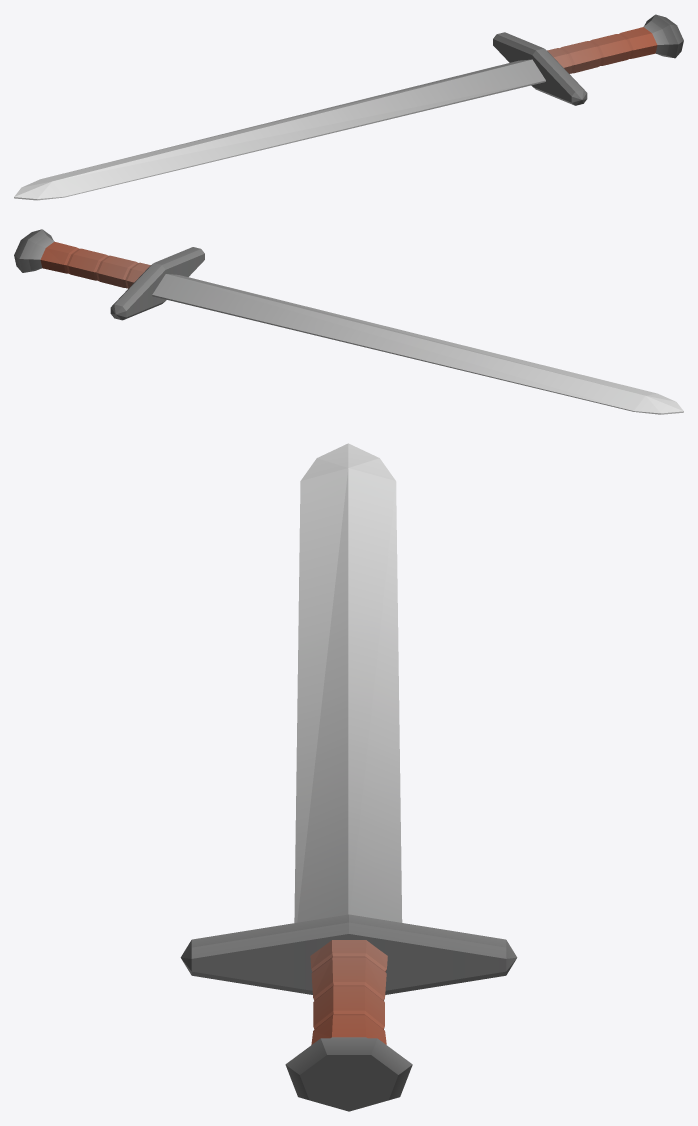
The model's file is sword_c.glb.
The picture shows the model from 3 angles, top to bottom: view 1: azimuth 30°, elevation 25°; view 2: azimuth 150°, elevation 25°; view 3: azimuth 270°, elevation 25°; orthographic projection. The views are drawn at different scales.
Parts seen in each view (by area): view 1: Sword_C_mesh1; view 2: Sword_C_mesh1; view 3: Sword_C_mesh1.
Boxes of the visible parts, x1,y1,x2,y2 form: Sword_C_mesh1: (14,14,683,200); Sword_C_mesh1: (14,229,683,414); Sword_C_mesh1: (180,443,517,1111).
Bounding box in the file's own units: 1.17 × 0.0668 × 0.2604.
1 material, 1 textured.
